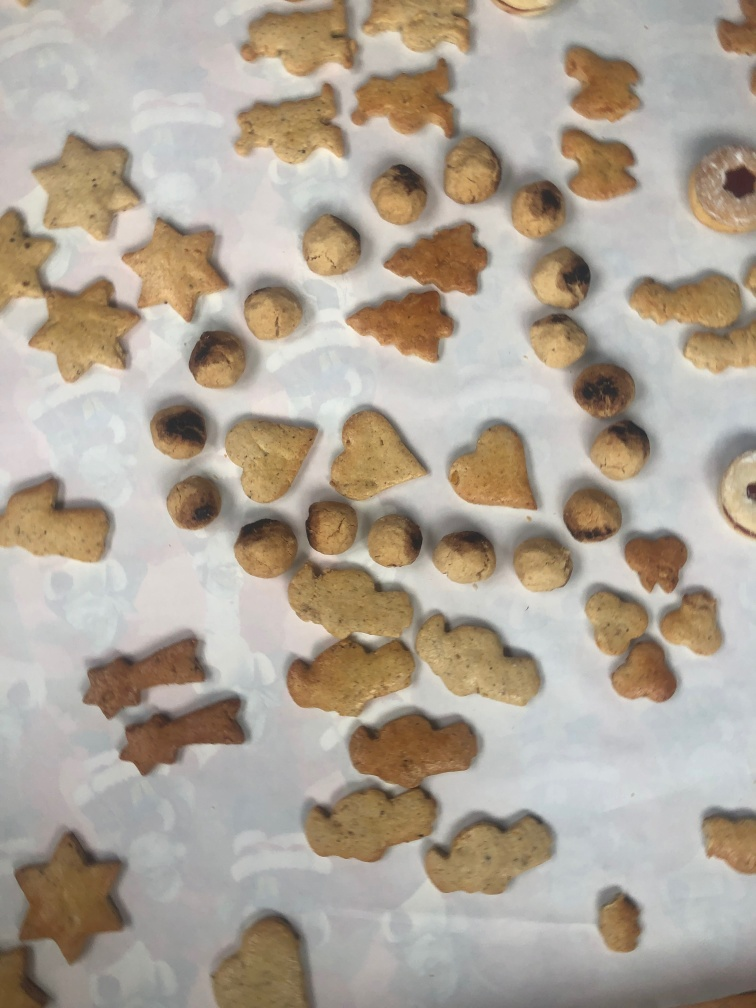angel: (1, 470, 115, 576)
christmas shortbread with jam: (686, 135, 756, 239), (716, 440, 755, 538)
christmas tree: (340, 283, 460, 371), (378, 218, 503, 299)
flake: (658, 579, 731, 667), (577, 579, 652, 653), (607, 638, 683, 708), (615, 529, 691, 594)
heart: (442, 413, 547, 521), (203, 911, 320, 1007), (328, 400, 432, 504), (221, 406, 321, 506)
lamb: (554, 33, 648, 128), (553, 116, 654, 204)
santa claus: (410, 602, 547, 717), (419, 804, 563, 897), (298, 776, 444, 865), (283, 549, 421, 638), (282, 633, 420, 718), (347, 704, 485, 788), (230, 78, 352, 166), (236, 1, 365, 83), (348, 55, 463, 140), (358, 1, 482, 55)
shooting star: (112, 683, 257, 779), (80, 629, 220, 718)
snowball: (622, 266, 748, 331), (294, 196, 360, 281), (676, 315, 755, 383), (426, 522, 502, 589), (232, 513, 300, 582), (187, 322, 254, 391), (243, 279, 312, 346), (583, 414, 654, 479), (525, 247, 598, 310), (559, 478, 622, 549), (365, 157, 427, 228), (508, 176, 569, 246), (148, 395, 213, 460), (440, 136, 501, 205), (160, 469, 225, 533), (575, 357, 638, 421), (590, 887, 652, 951), (525, 312, 592, 368), (514, 532, 576, 591), (302, 492, 360, 555), (360, 506, 416, 568)
star: (8, 824, 140, 962), (28, 127, 144, 244), (118, 210, 230, 322), (27, 278, 145, 383), (3, 203, 57, 311), (3, 934, 62, 1008)
